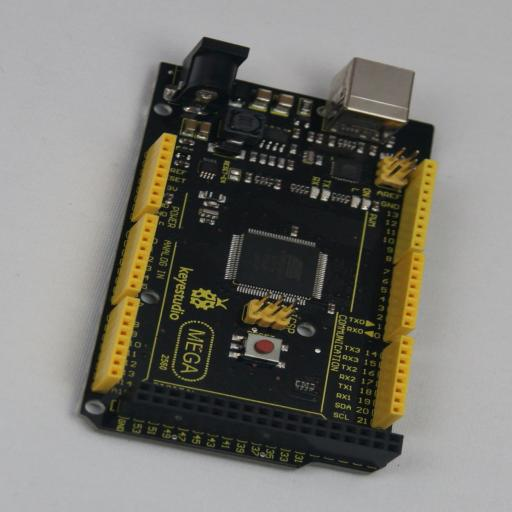Arduino Mega 2560 -Black and Yellow-: (78, 37, 434, 475)
